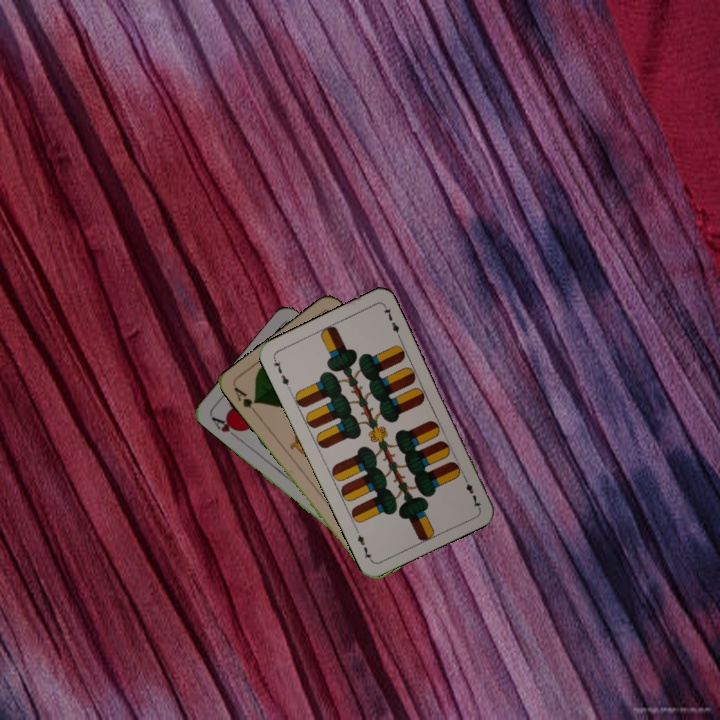E7: (269, 354, 293, 392), (459, 472, 483, 510)
GA: (230, 383, 260, 417)
HA: (207, 412, 244, 442)
